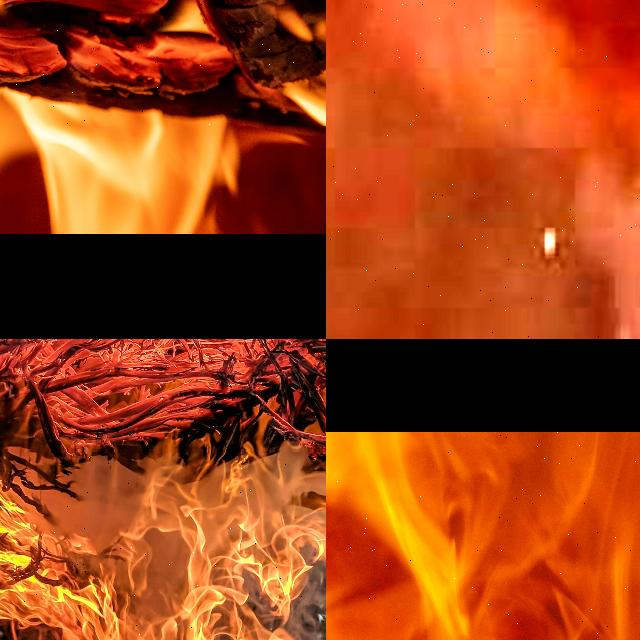fire: (326, 432, 640, 640), (0, 451, 326, 640), (0, 0, 326, 125), (0, 339, 326, 437)
smoke: (326, 0, 640, 339)
